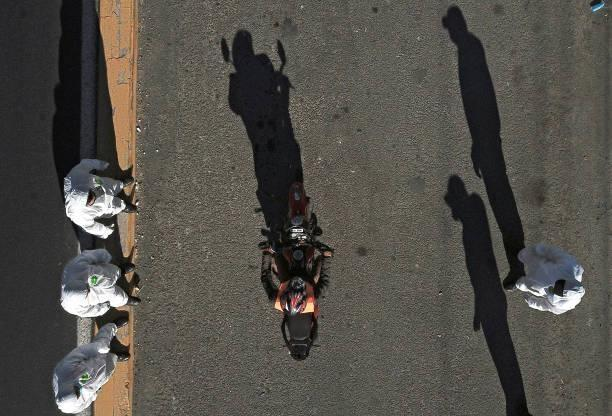Motorcycle: (268, 195, 335, 354)
